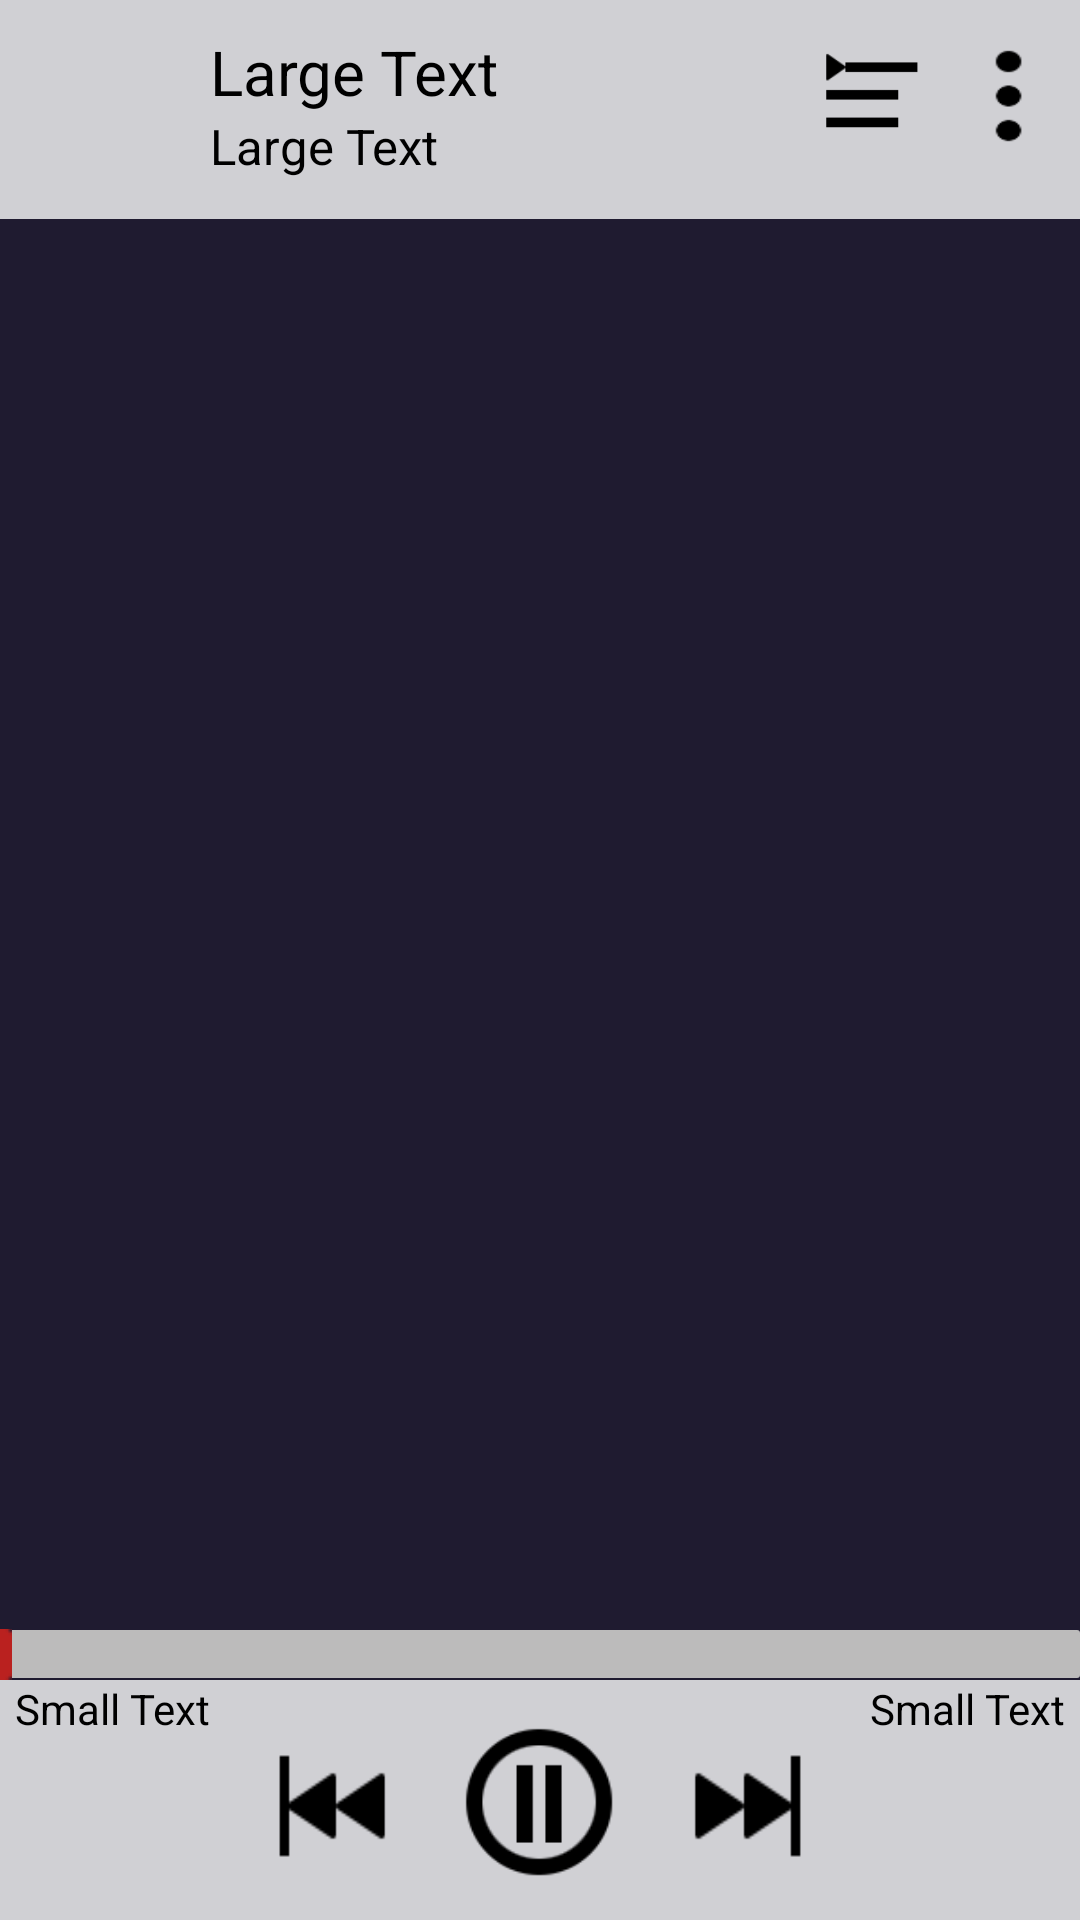

Screen size 1080 x 1920. Icon name, then its box in pixels as (x1, y1, x2, y2):
btnmenu: (995, 50, 1022, 142)
btnnext: (695, 1755, 801, 1857)
btnprev: (279, 1755, 385, 1857)
Список: (826, 54, 918, 128)
